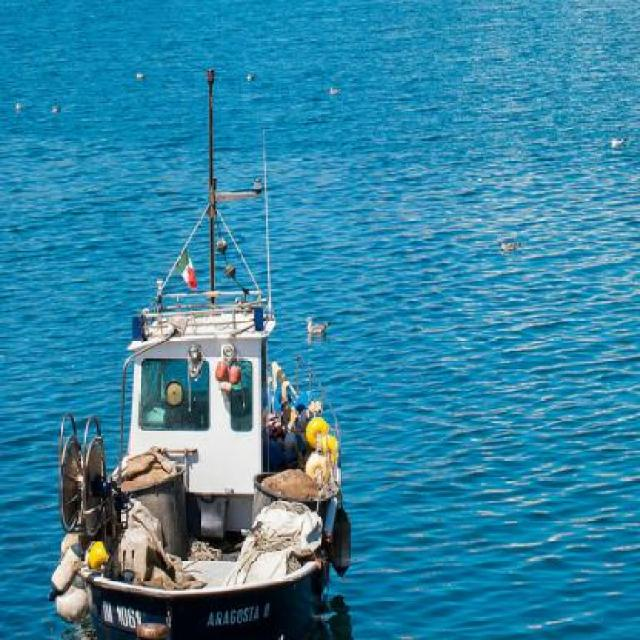ship: (52, 277, 343, 635)
